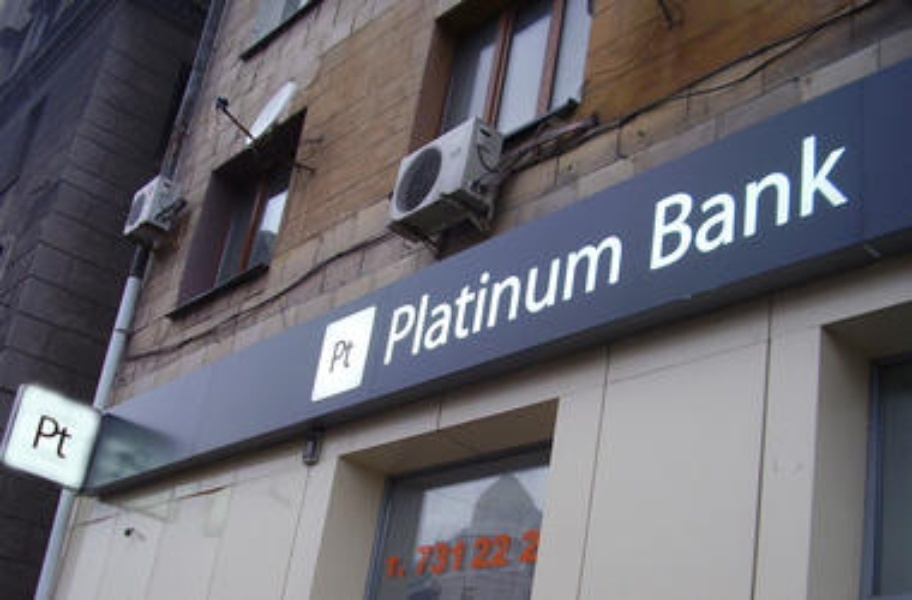text: (609, 217, 625, 368), (657, 123, 672, 274), (673, 123, 688, 274), (689, 123, 704, 274), (705, 123, 720, 274), (721, 123, 736, 274), (737, 123, 752, 274), (753, 123, 768, 274), (769, 123, 784, 274), (785, 123, 800, 274), (801, 123, 816, 274), (817, 123, 832, 274), (833, 123, 848, 274), (401, 217, 416, 368), (417, 217, 432, 368), (433, 217, 448, 368), (449, 217, 464, 368), (465, 217, 480, 368), (481, 217, 496, 368), (497, 217, 512, 368), (513, 217, 528, 368), (529, 217, 544, 368), (545, 217, 560, 368), (561, 217, 576, 368), (577, 217, 592, 368), (593, 217, 608, 368), (849, 123, 855, 274), (394, 217, 400, 368), (49, 411, 64, 461), (337, 339, 353, 373), (417, 538, 432, 574), (433, 538, 448, 574), (449, 538, 464, 574), (65, 411, 75, 461), (481, 536, 496, 567), (497, 536, 512, 567), (529, 529, 541, 567), (653, 123, 656, 274), (39, 411, 48, 461), (385, 555, 400, 579), (519, 529, 528, 567), (401, 555, 409, 579), (411, 538, 416, 574), (476, 536, 480, 567), (334, 339, 336, 373), (465, 538, 466, 574)
